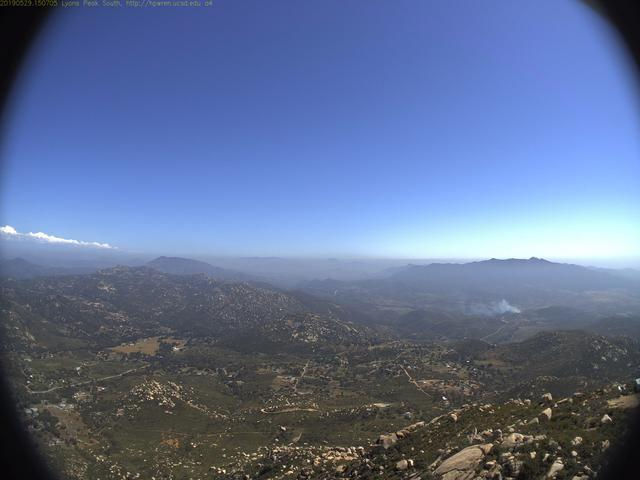smoke: (463, 294, 525, 318)
